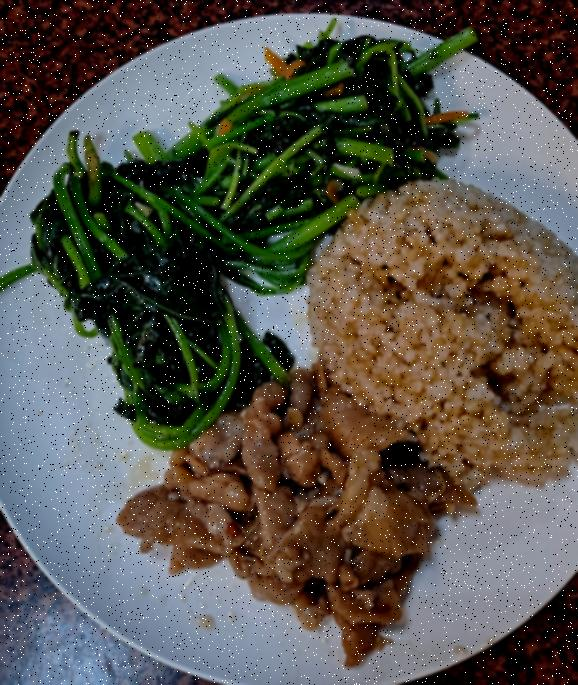brown rice: (304, 167, 578, 482)
garlic white meat: (123, 369, 478, 655)
plate: (0, 11, 578, 685)
side dish: (31, 142, 282, 436), (180, 19, 469, 248)
